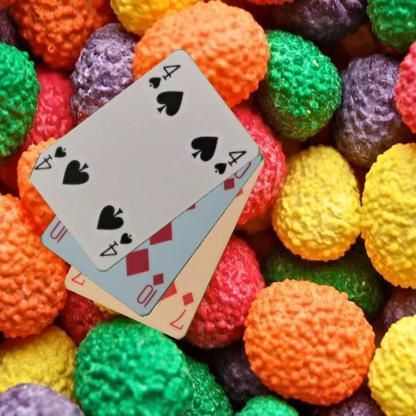10d: (133, 270, 166, 310)
4s: (145, 62, 183, 91), (96, 230, 134, 258)
7d: (166, 289, 196, 332)
